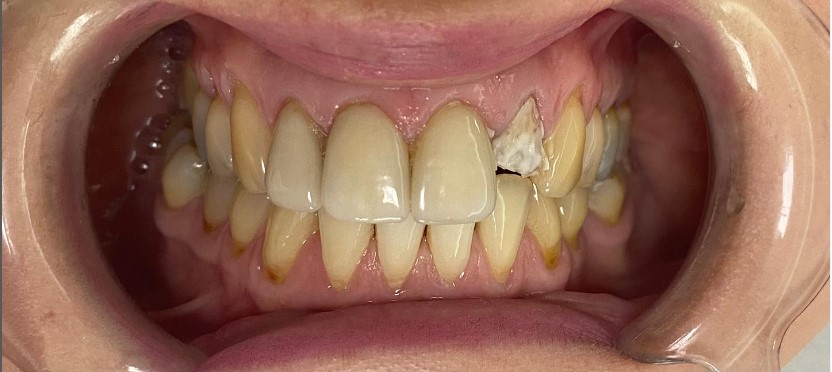LLCI_healthy: (427, 223, 472, 284)
LLC_decay: (524, 191, 564, 270)
LLLI_healthy: (481, 177, 529, 284)
LR1BC_healthy: (229, 198, 262, 251)
LR1M_healthy: (159, 129, 206, 205)
LR2BC_healthy: (194, 182, 229, 235)
LRCI_healthy: (376, 222, 424, 297)
LRC_healthy: (259, 202, 312, 280)
LRLI_healthy: (318, 217, 372, 288)
UL1BC_healthy: (586, 113, 607, 187)
ULCI_healthy: (414, 93, 498, 228)
ULC_healthy: (544, 93, 586, 198)
ULLI_decay: (495, 99, 548, 180)
UR1BC_healthy: (197, 92, 238, 192)
URCI_healthy: (317, 101, 412, 225)
URC_healthy: (227, 92, 271, 196)
URLI_healthy: (258, 106, 322, 210)
